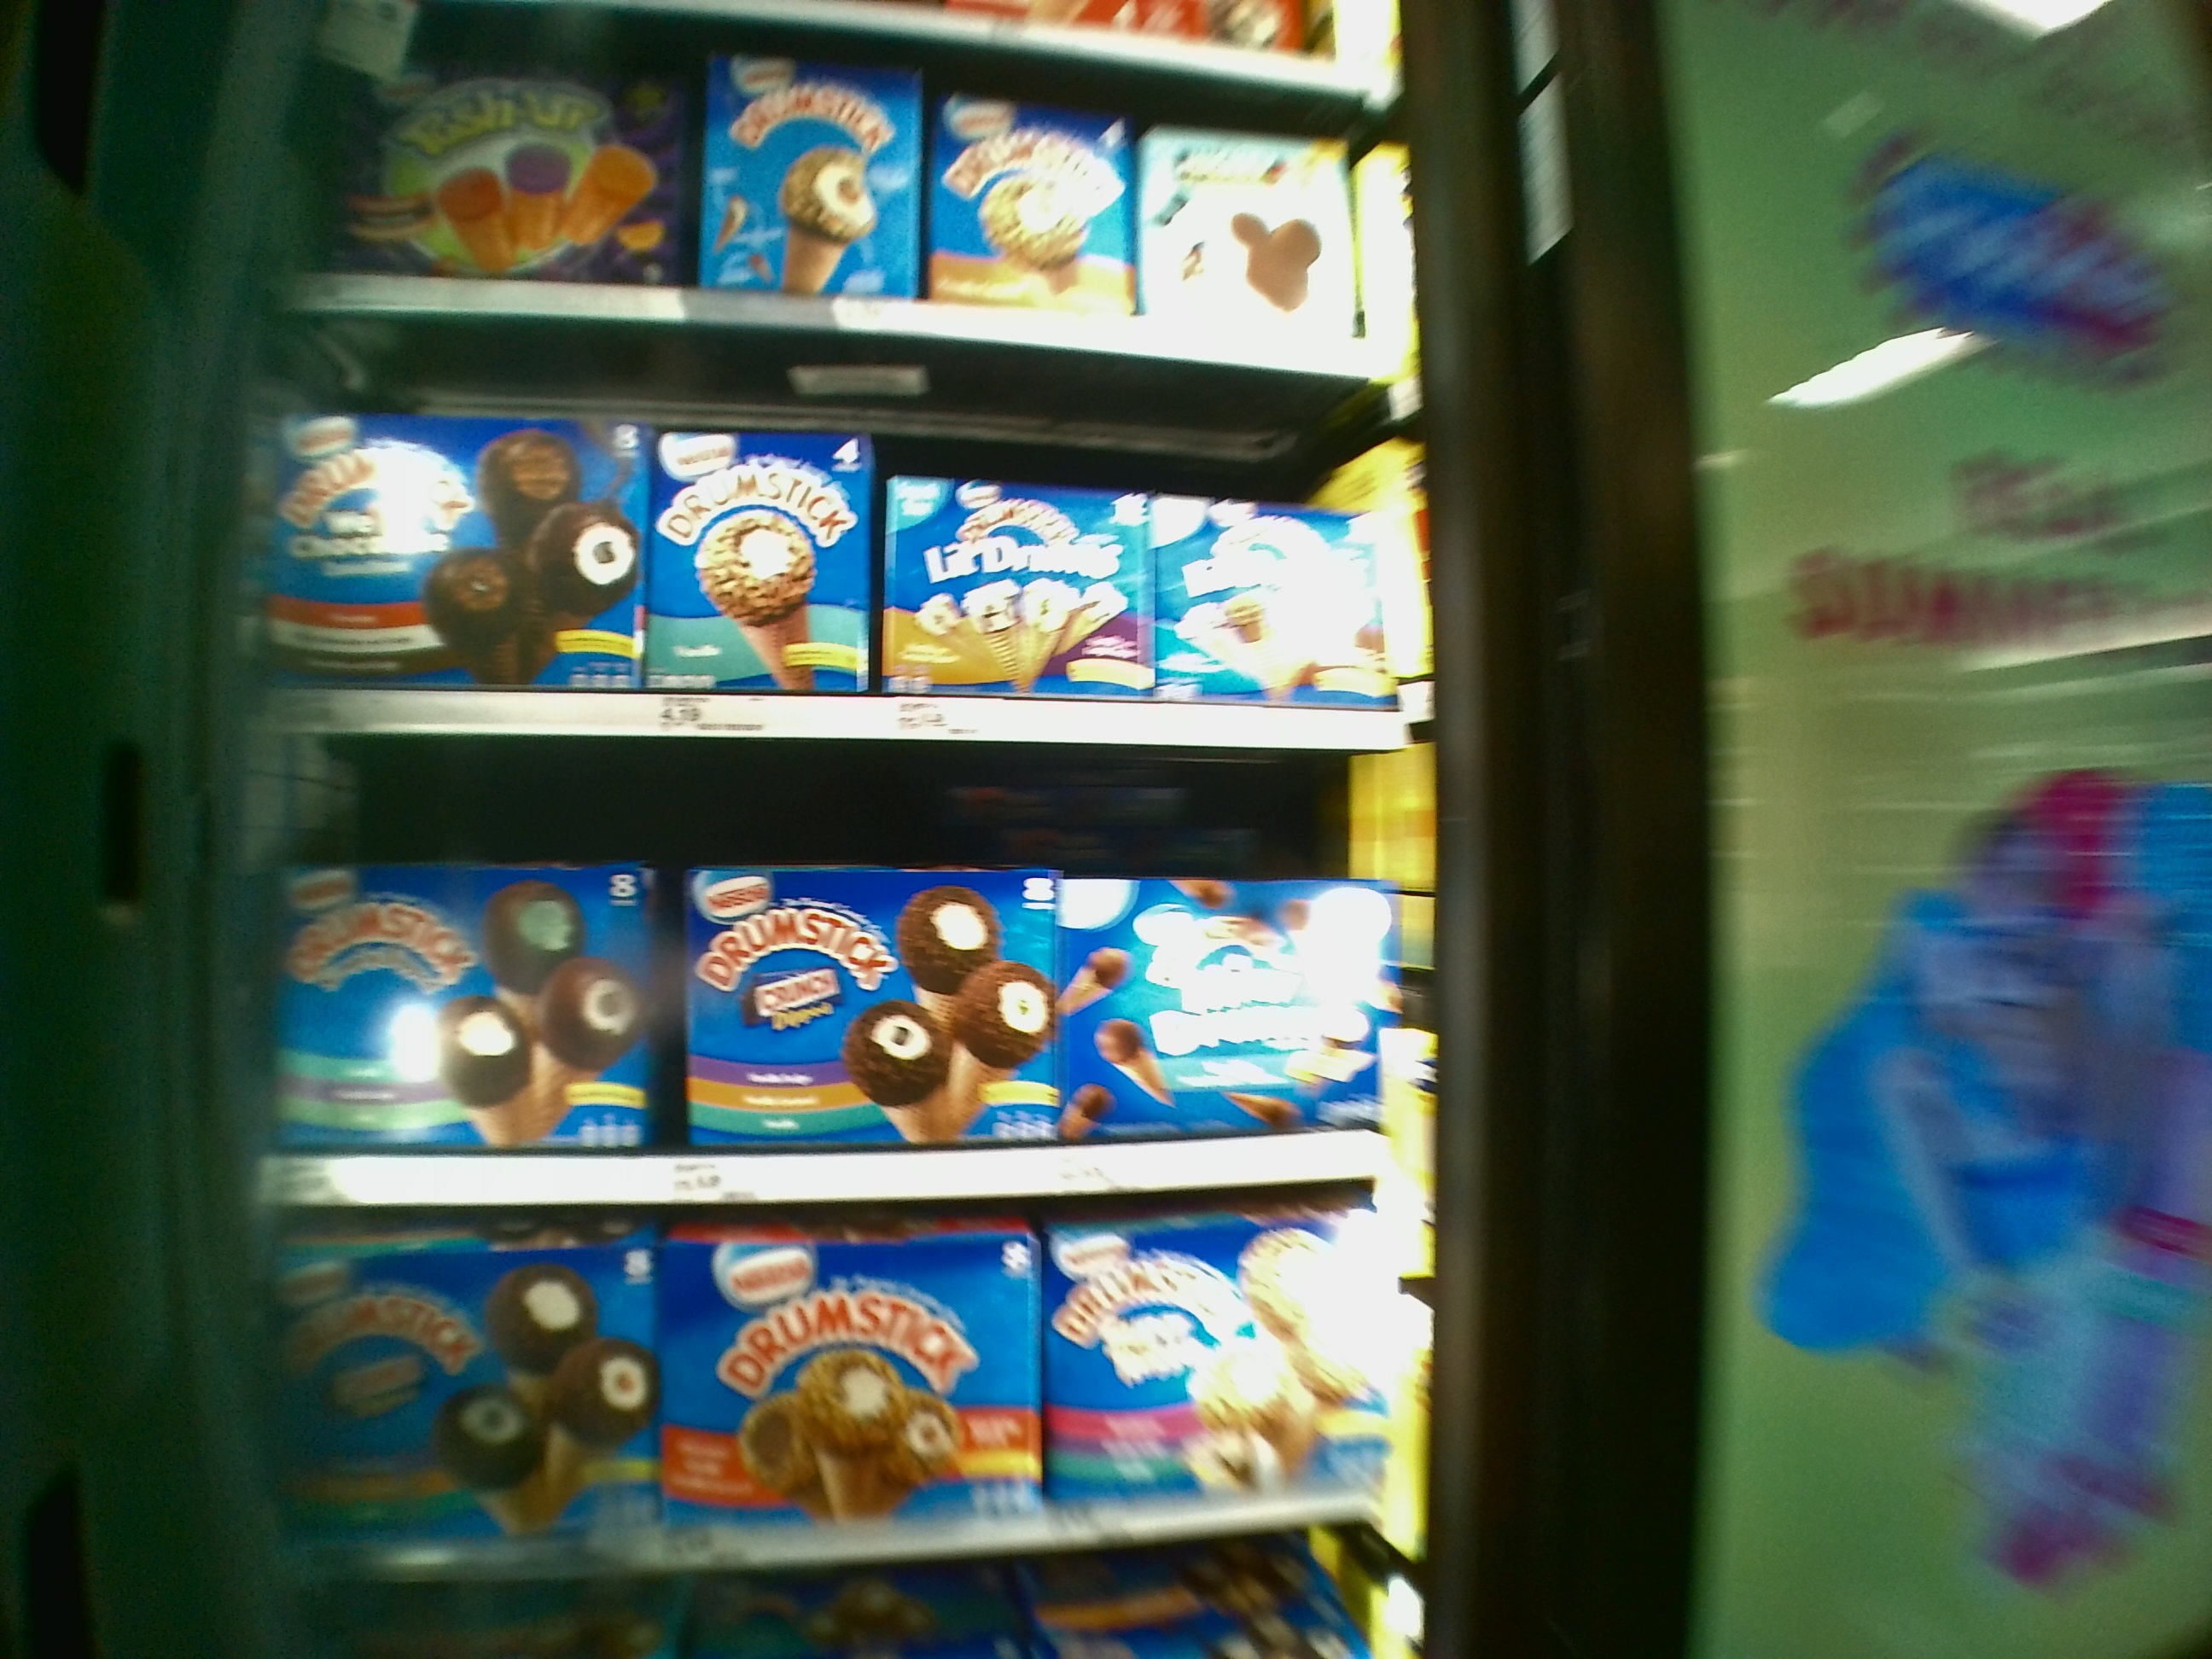shelf: (277, 735, 1362, 1208), (275, 373, 1362, 742), (289, 1206, 1353, 1568)
